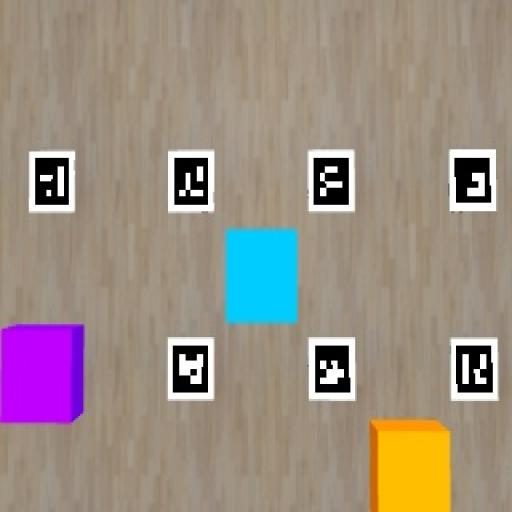car: (0, 325, 84, 424), (224, 229, 299, 324)
fire: (370, 421, 451, 511)
